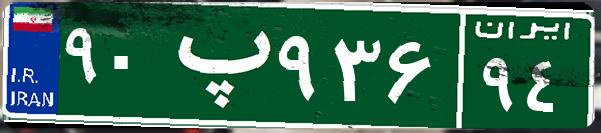0: (110, 28, 158, 105)
3: (330, 28, 385, 110)
4: (525, 38, 570, 115)
6: (385, 28, 445, 110)
9: (273, 28, 330, 110), (57, 26, 110, 107), (475, 38, 525, 113)
پ: (158, 15, 273, 115)
